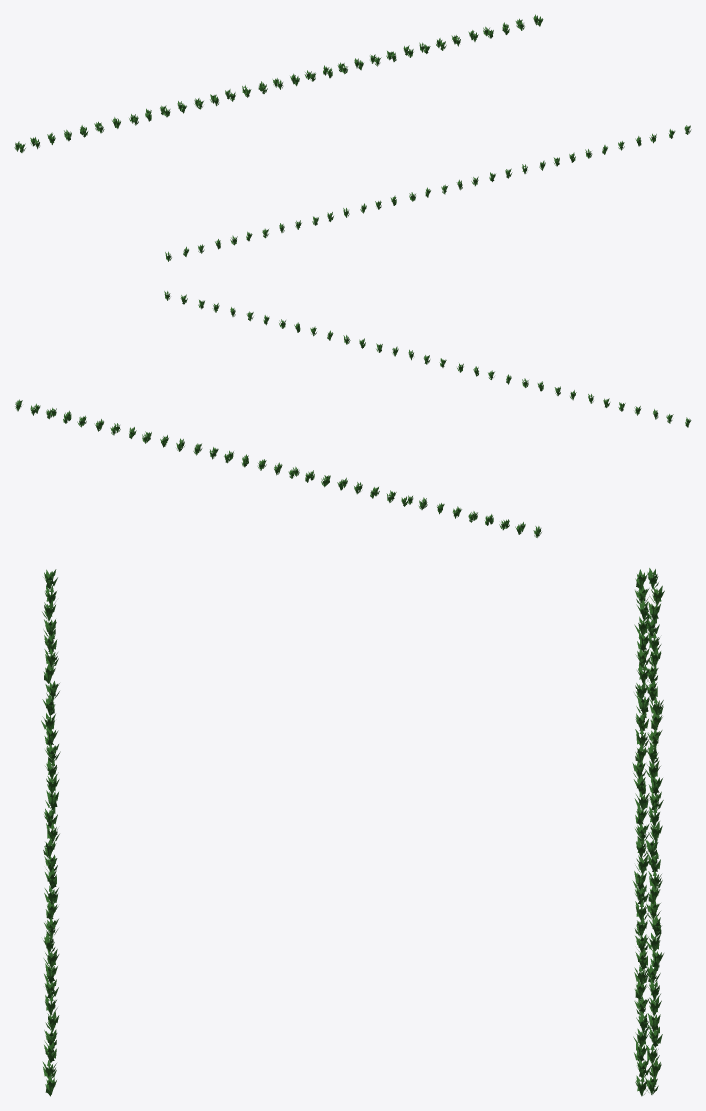
Rendered from farm_pepper_plant.dae.
The picture shows the model from 3 angles, top to bottom: view 1: azimuth 30°, elevation 25°; view 2: azimuth 150°, elevation 25°; view 3: azimuth 270°, elevation 25°; orthographic projection. The views are drawn at different scales.
Parts seen in each view (by area): view 1: farm_pepper_plant_node; view 2: farm_pepper_plant_node; view 3: farm_pepper_plant_node.
Boxes of the visible parts, bbox=[...] form: farm_pepper_plant_node: bbox=[14, 14, 691, 261]; farm_pepper_plant_node: bbox=[15, 291, 691, 537]; farm_pepper_plant_node: bbox=[41, 568, 664, 1096].
Size of the model in its own units: 19.54 by 10.03 by 0.3363.
